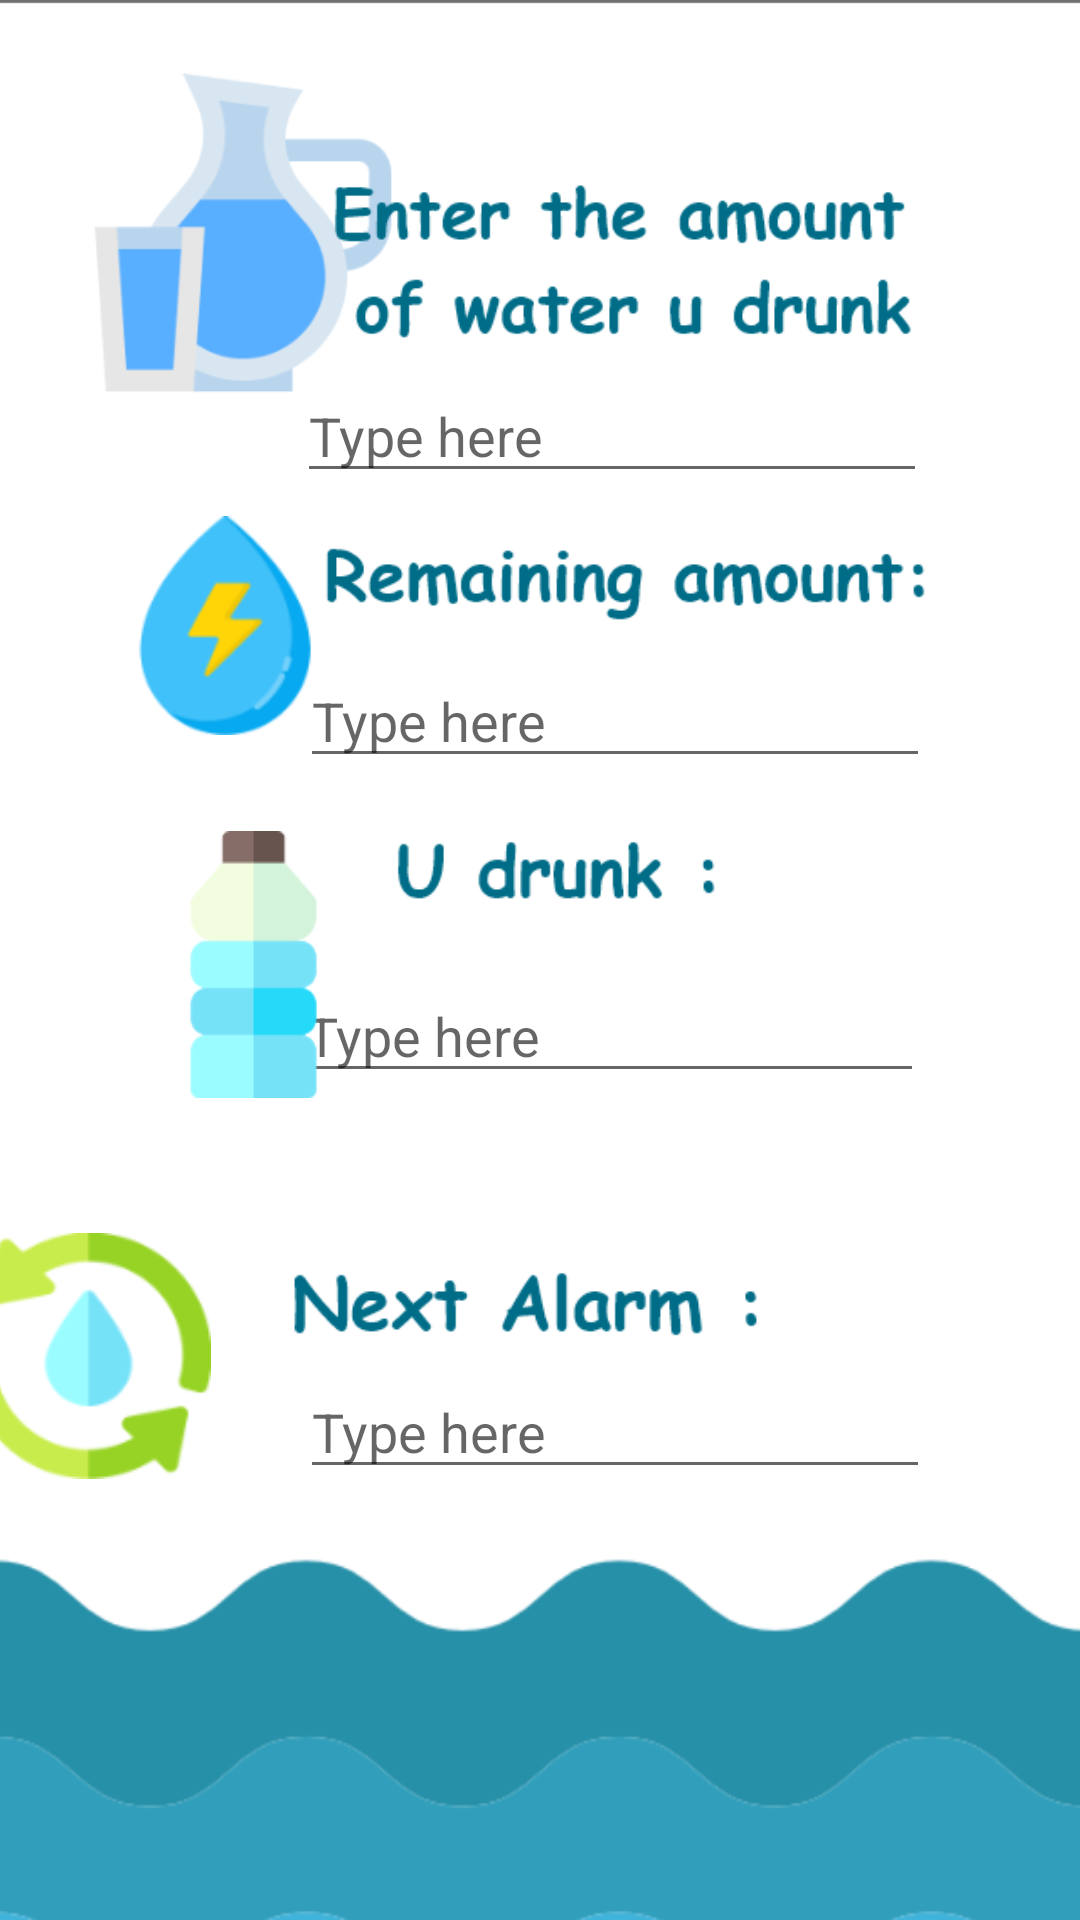

Icon click points for this 1080 x 1920 phone screenshot, format point (x, y):
bottel: point (290, 964)
